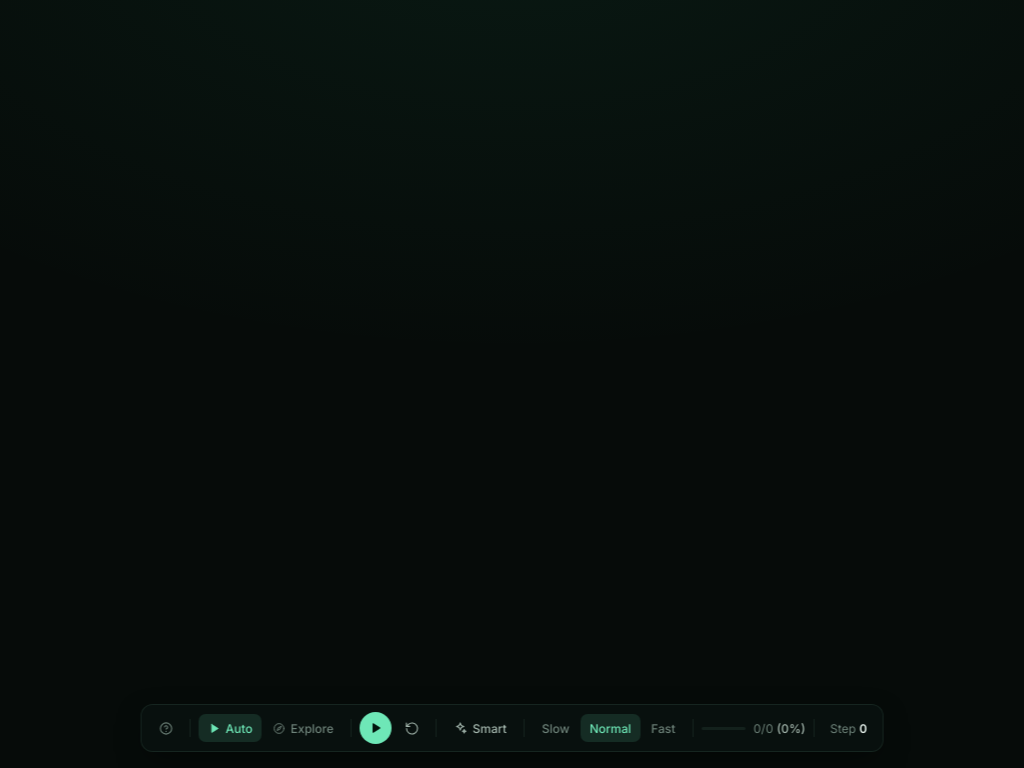
Test case: SimulationControls › closes guide when close button is clicked
Click the button named "Show guide": [166, 728] box [150,712,182,744]
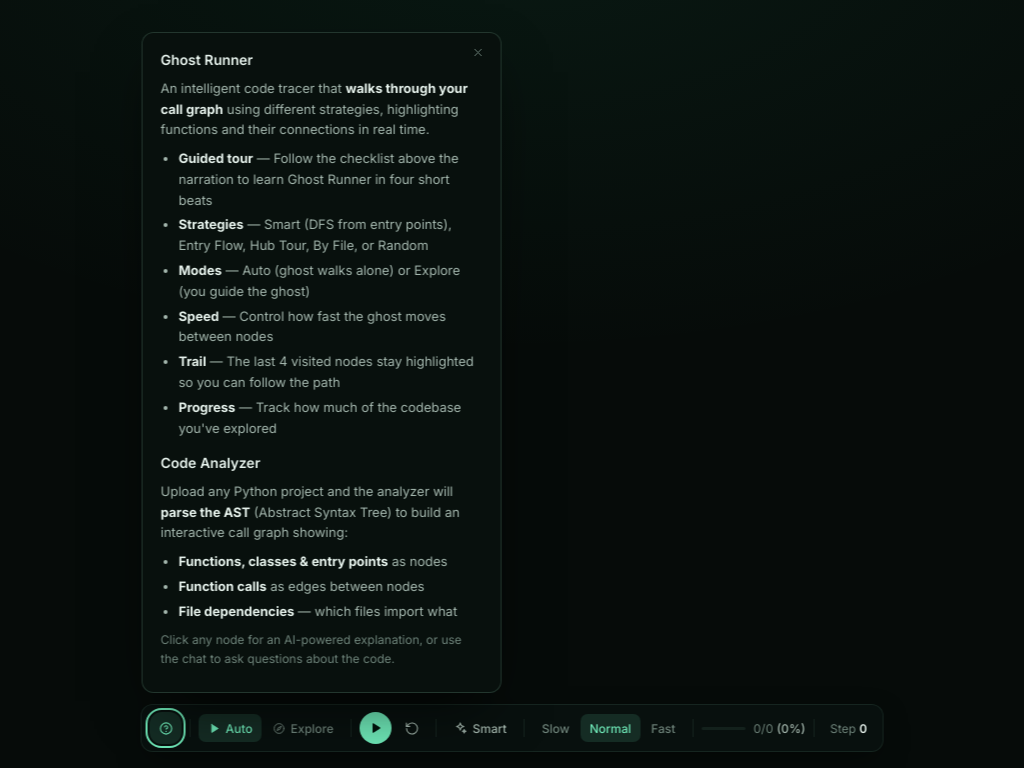
expect the heading "Ghost Runner" is shown: met, box [160,51,253,68]
Click the button named "Close guide (Press Esc)": [478, 51] box [466,41,490,60]
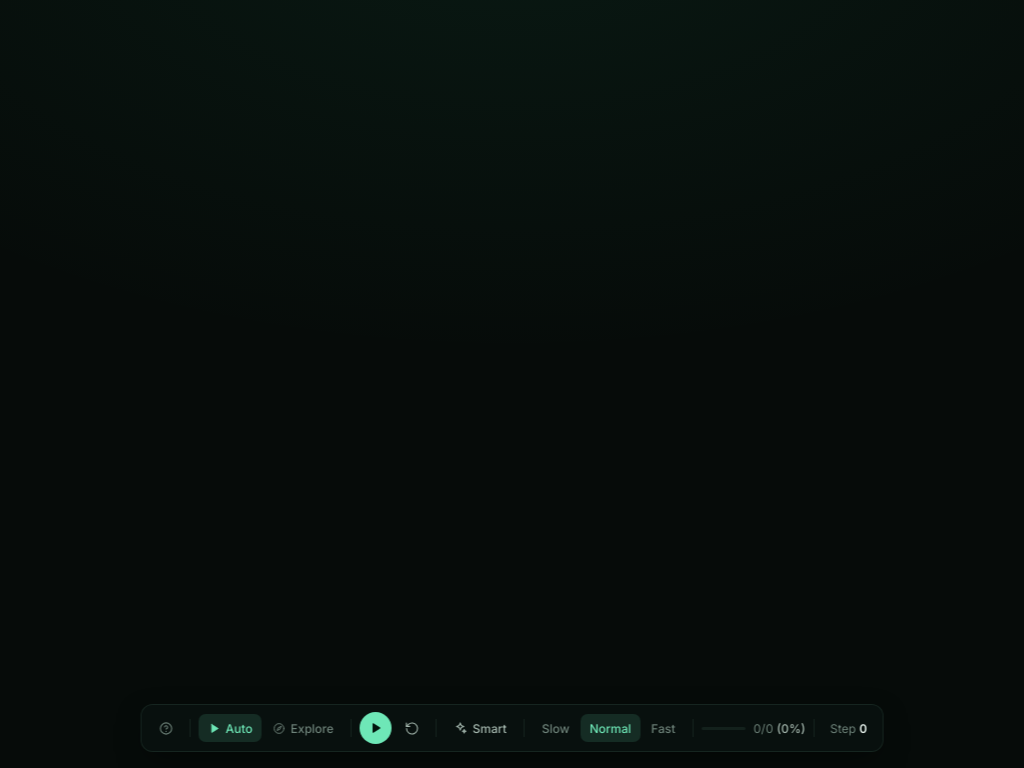
expect the heading "Ghost Runner" is gone: met
